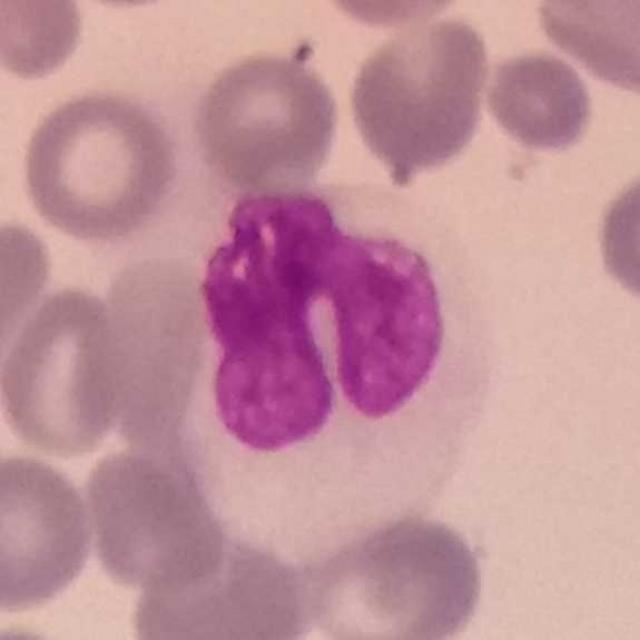mono: (187, 176, 493, 566)
